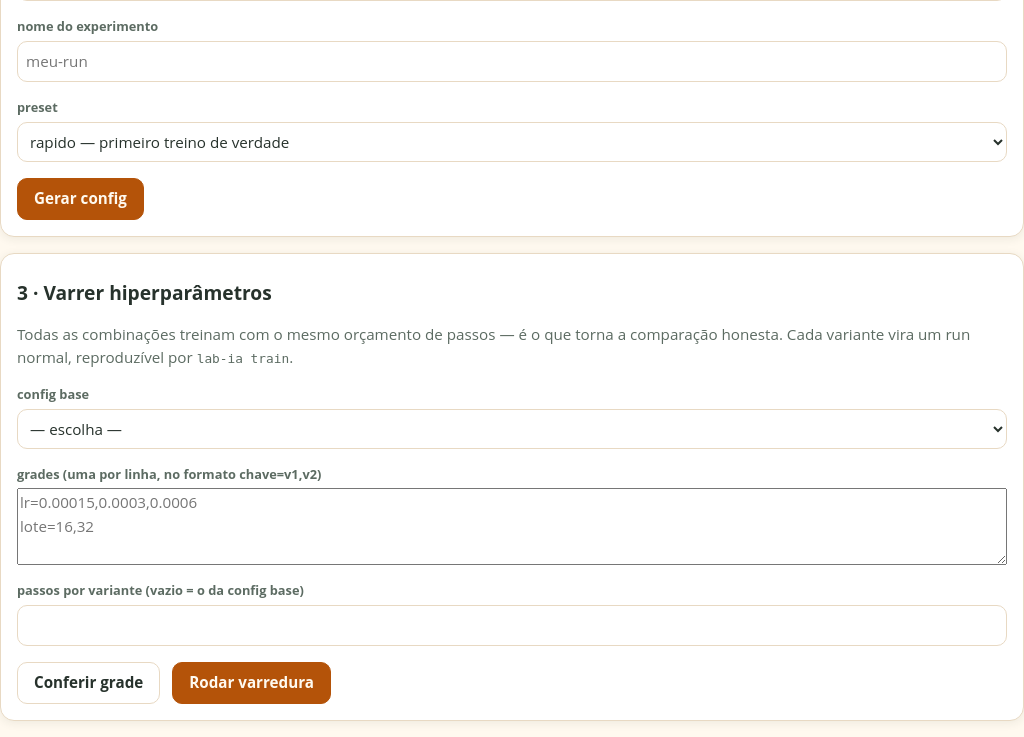
Test case: Bancada — varredura › exige base e grade
(page scrolled)
Click the button "Conferir grade" at (89, 683), box [17,662,160,704]
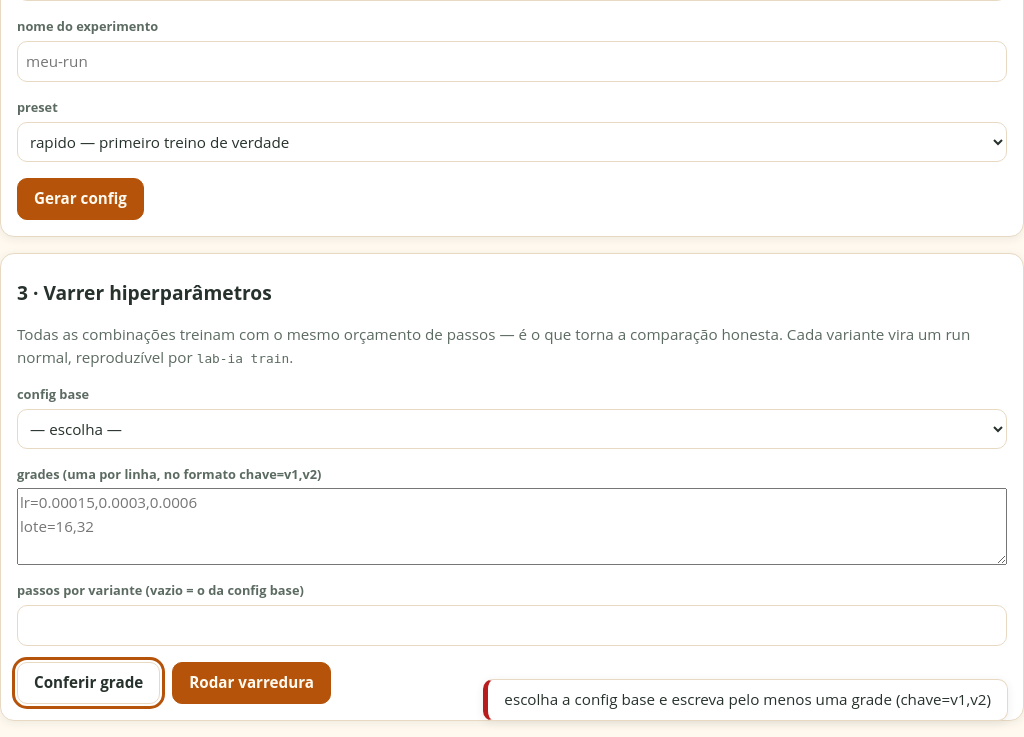
expect the message shows "config base": met, box [504,689,991,709]
